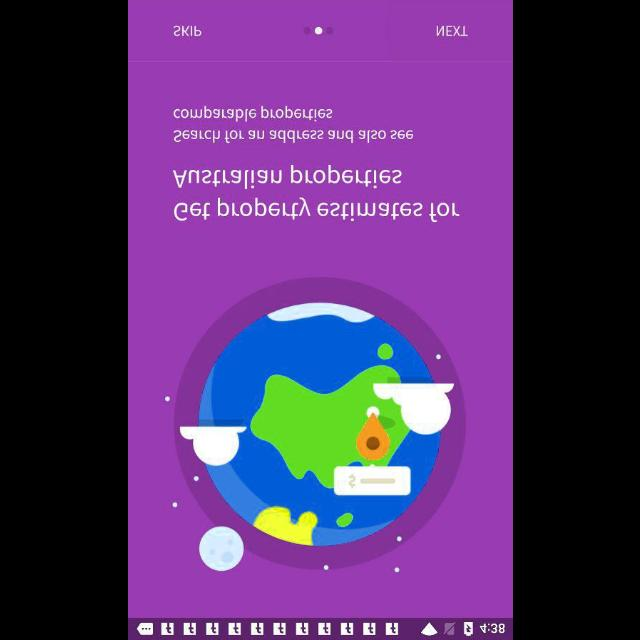image: (164, 277, 466, 573)
pageindicator: (303, 26, 333, 36)
text: (171, 164, 459, 222), (170, 105, 414, 144), (436, 25, 468, 37), (172, 25, 202, 37)
uppertaskbar: (128, 617, 512, 639)
